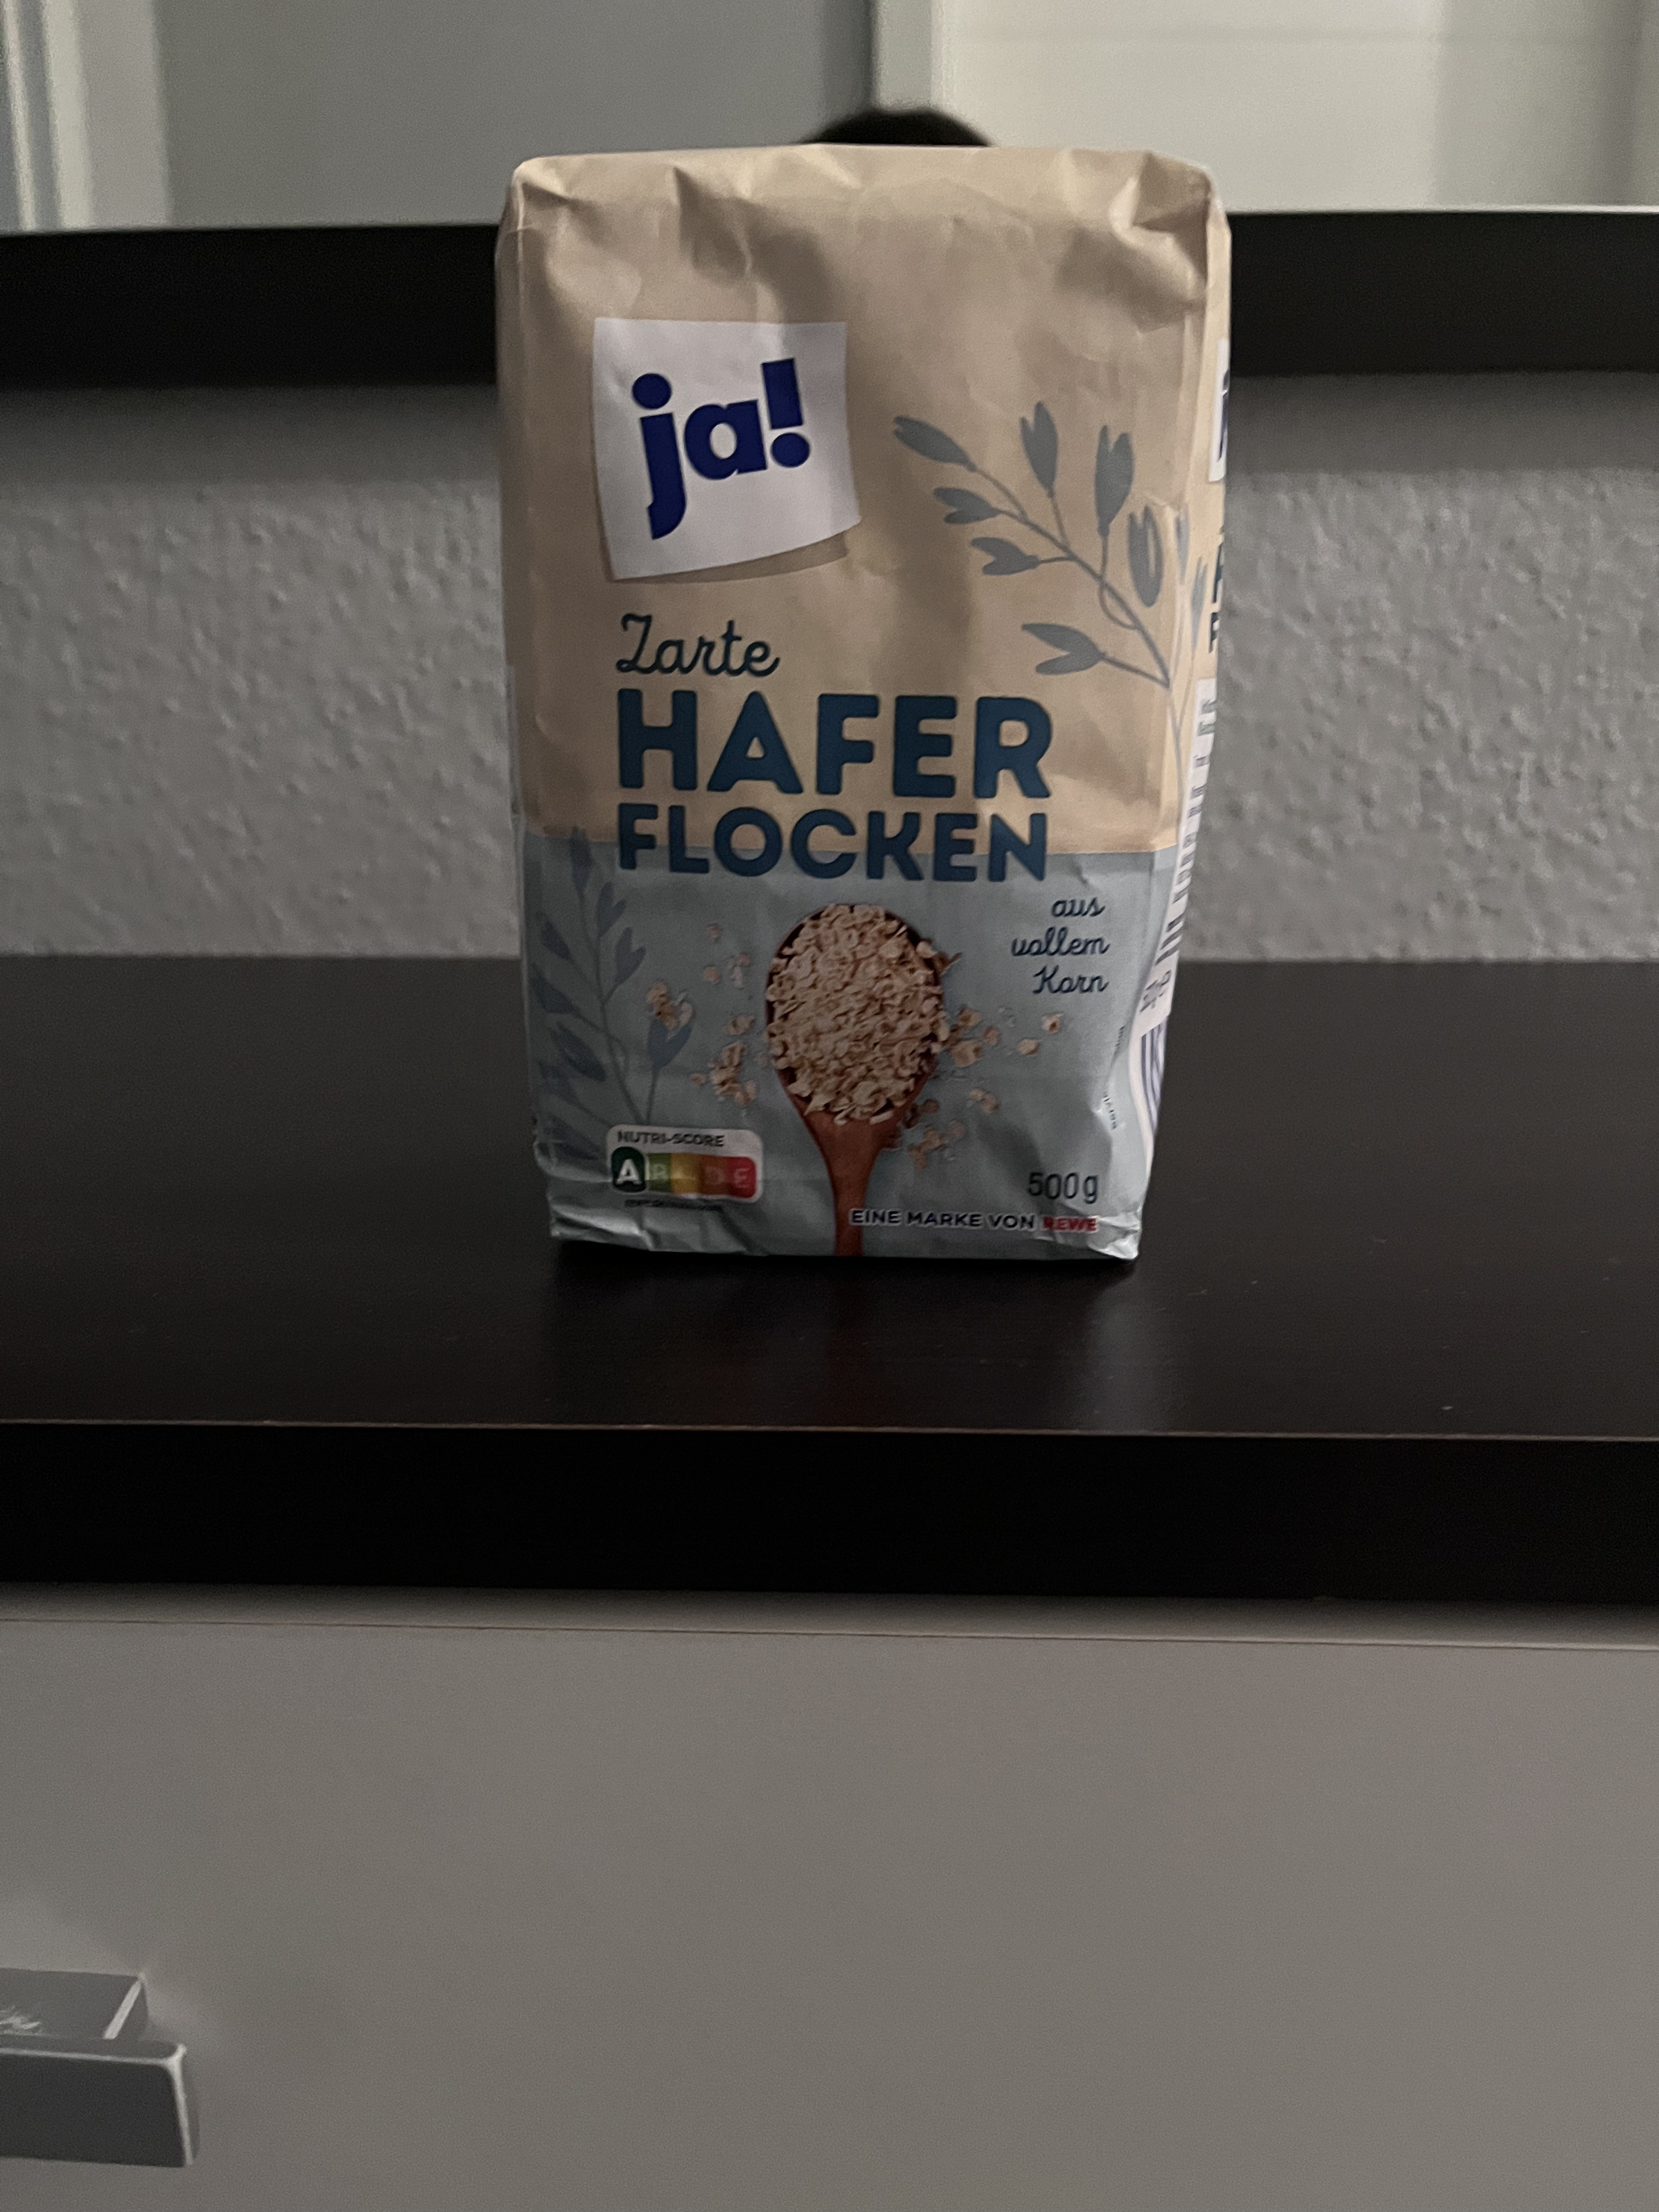haferflocken_ja: (483, 138, 1237, 1289)
